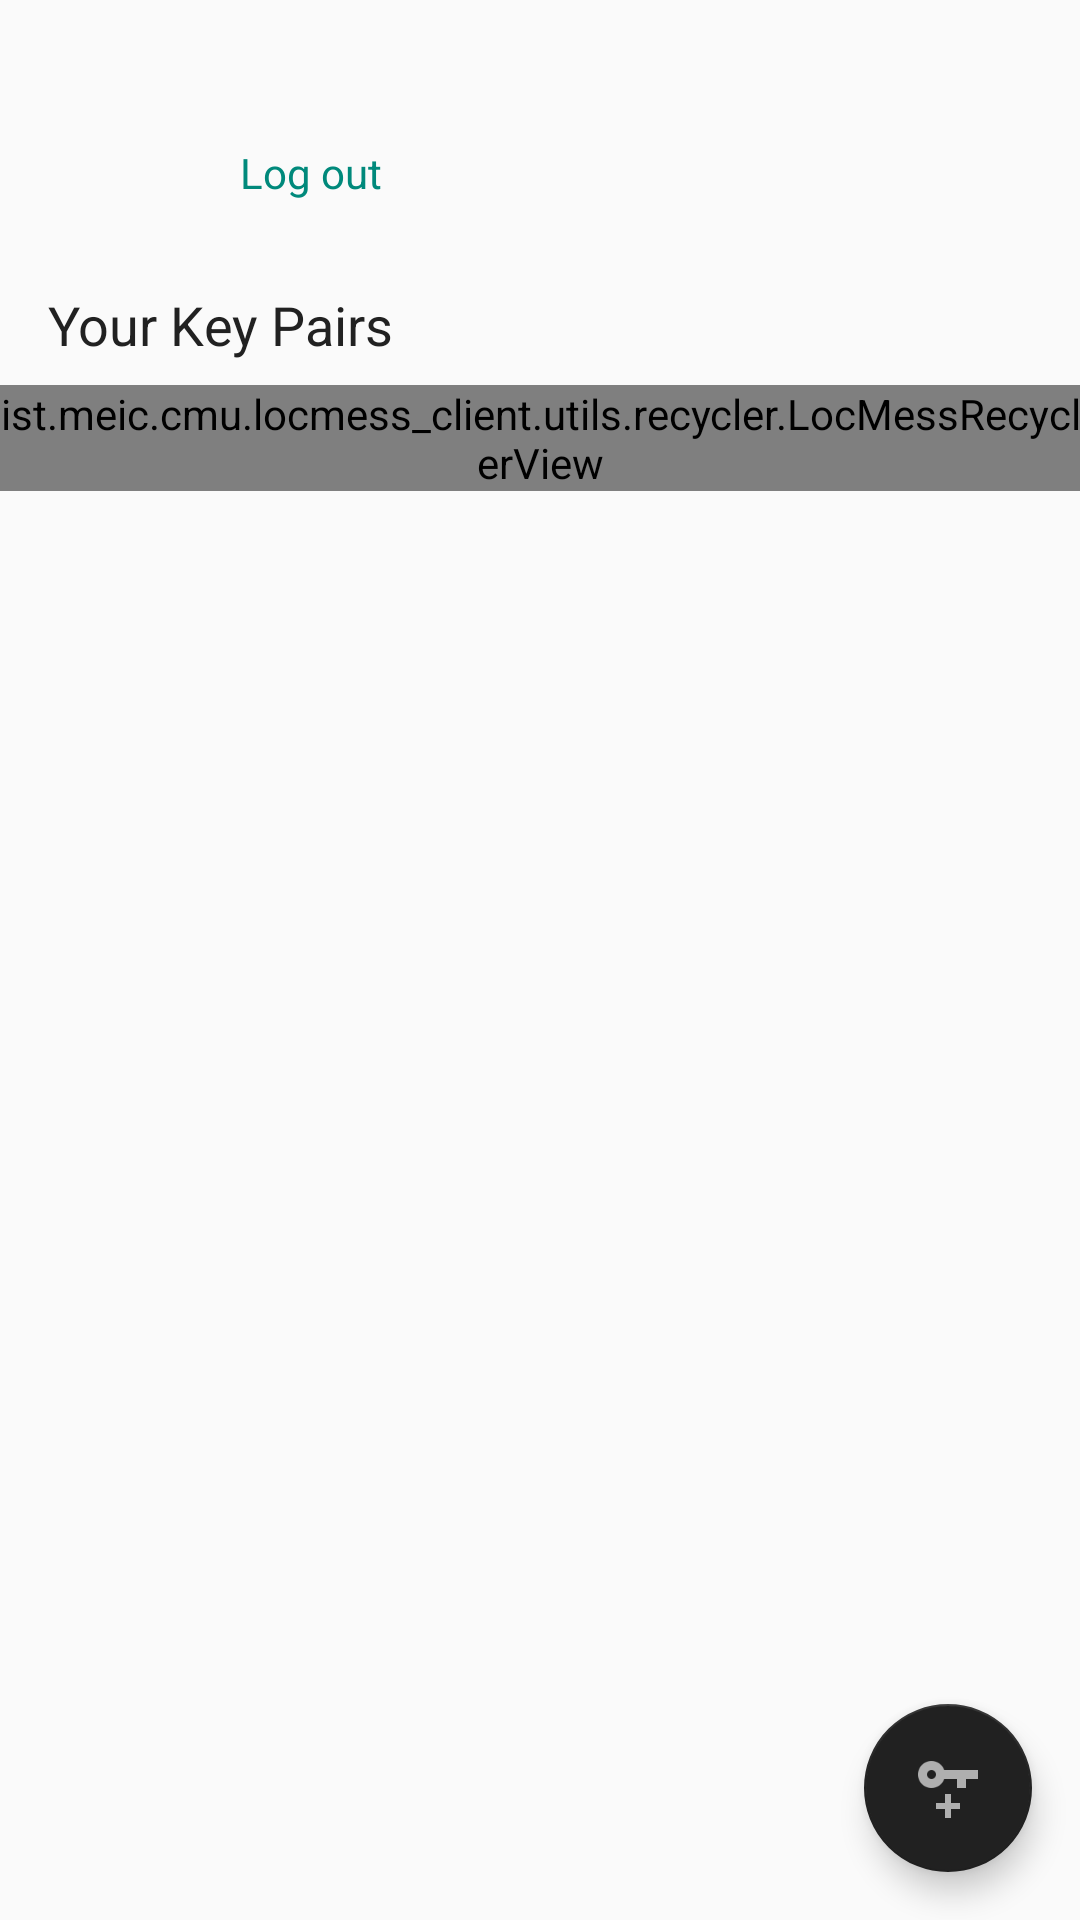

Icon click points for this 1080*1920 phone screenshot, format (x=x, y=y):
key plus: (x=948, y=1788)
